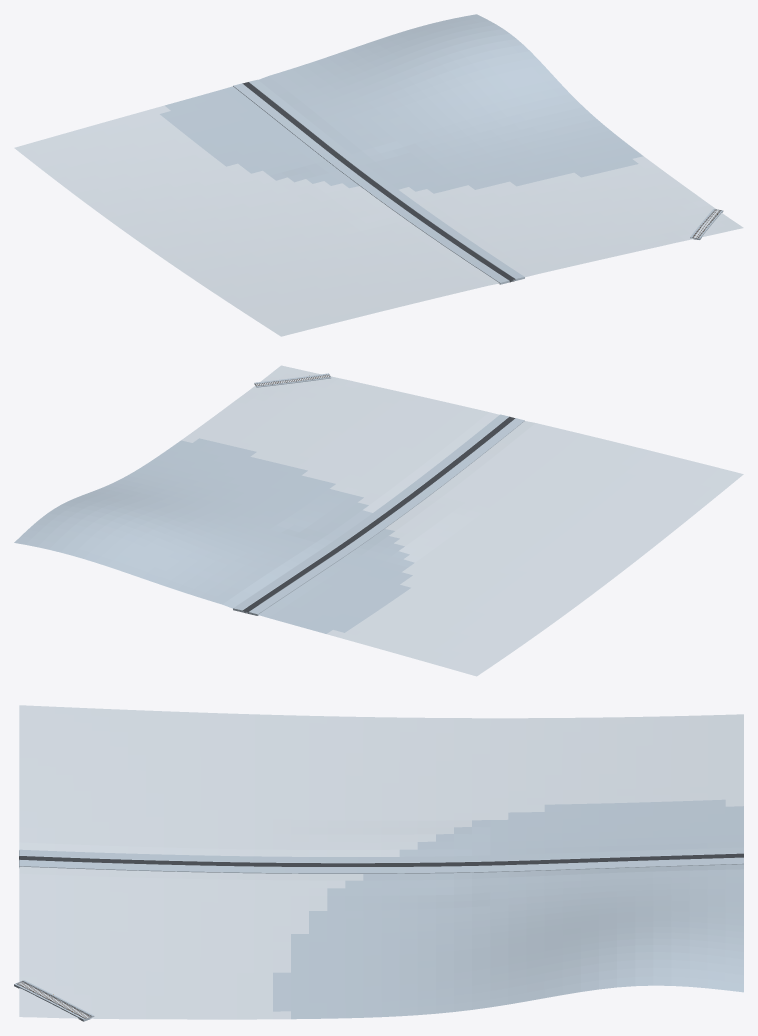
File: WorldCell_0_-1.fbx
3 renders of one model, top to bottom at view 1: azimuth 30°, elevation 25°; view 2: azimuth 150°, elevation 25°; view 3: azimuth 270°, elevation 25°, orthographic. The views are drawn at different scales.
Visible parts, largest first — view 1: WorldCell_0_-1, Road_1_0_-1; view 2: WorldCell_0_-1, Road_1_0_-1; view 3: WorldCell_0_-1, Road_1_0_-1, Rail_0_-1.
Boxes of the visible parts, left/top/right/bottom form: WorldCell_0_-1: left=14, top=14, right=743, bottom=336; Road_1_0_-1: left=233, top=79, right=524, bottom=284; WorldCell_0_-1: left=14, top=365, right=743, bottom=676; Road_1_0_-1: left=233, top=414, right=524, bottom=615; WorldCell_0_-1: left=19, top=705, right=743, bottom=1019; Road_1_0_-1: left=19, top=847, right=743, bottom=873; Rail_0_-1: left=14, top=980, right=94, bottom=1021.
Bounding box in the file's own units: 60390 × 3836 × 60438.
